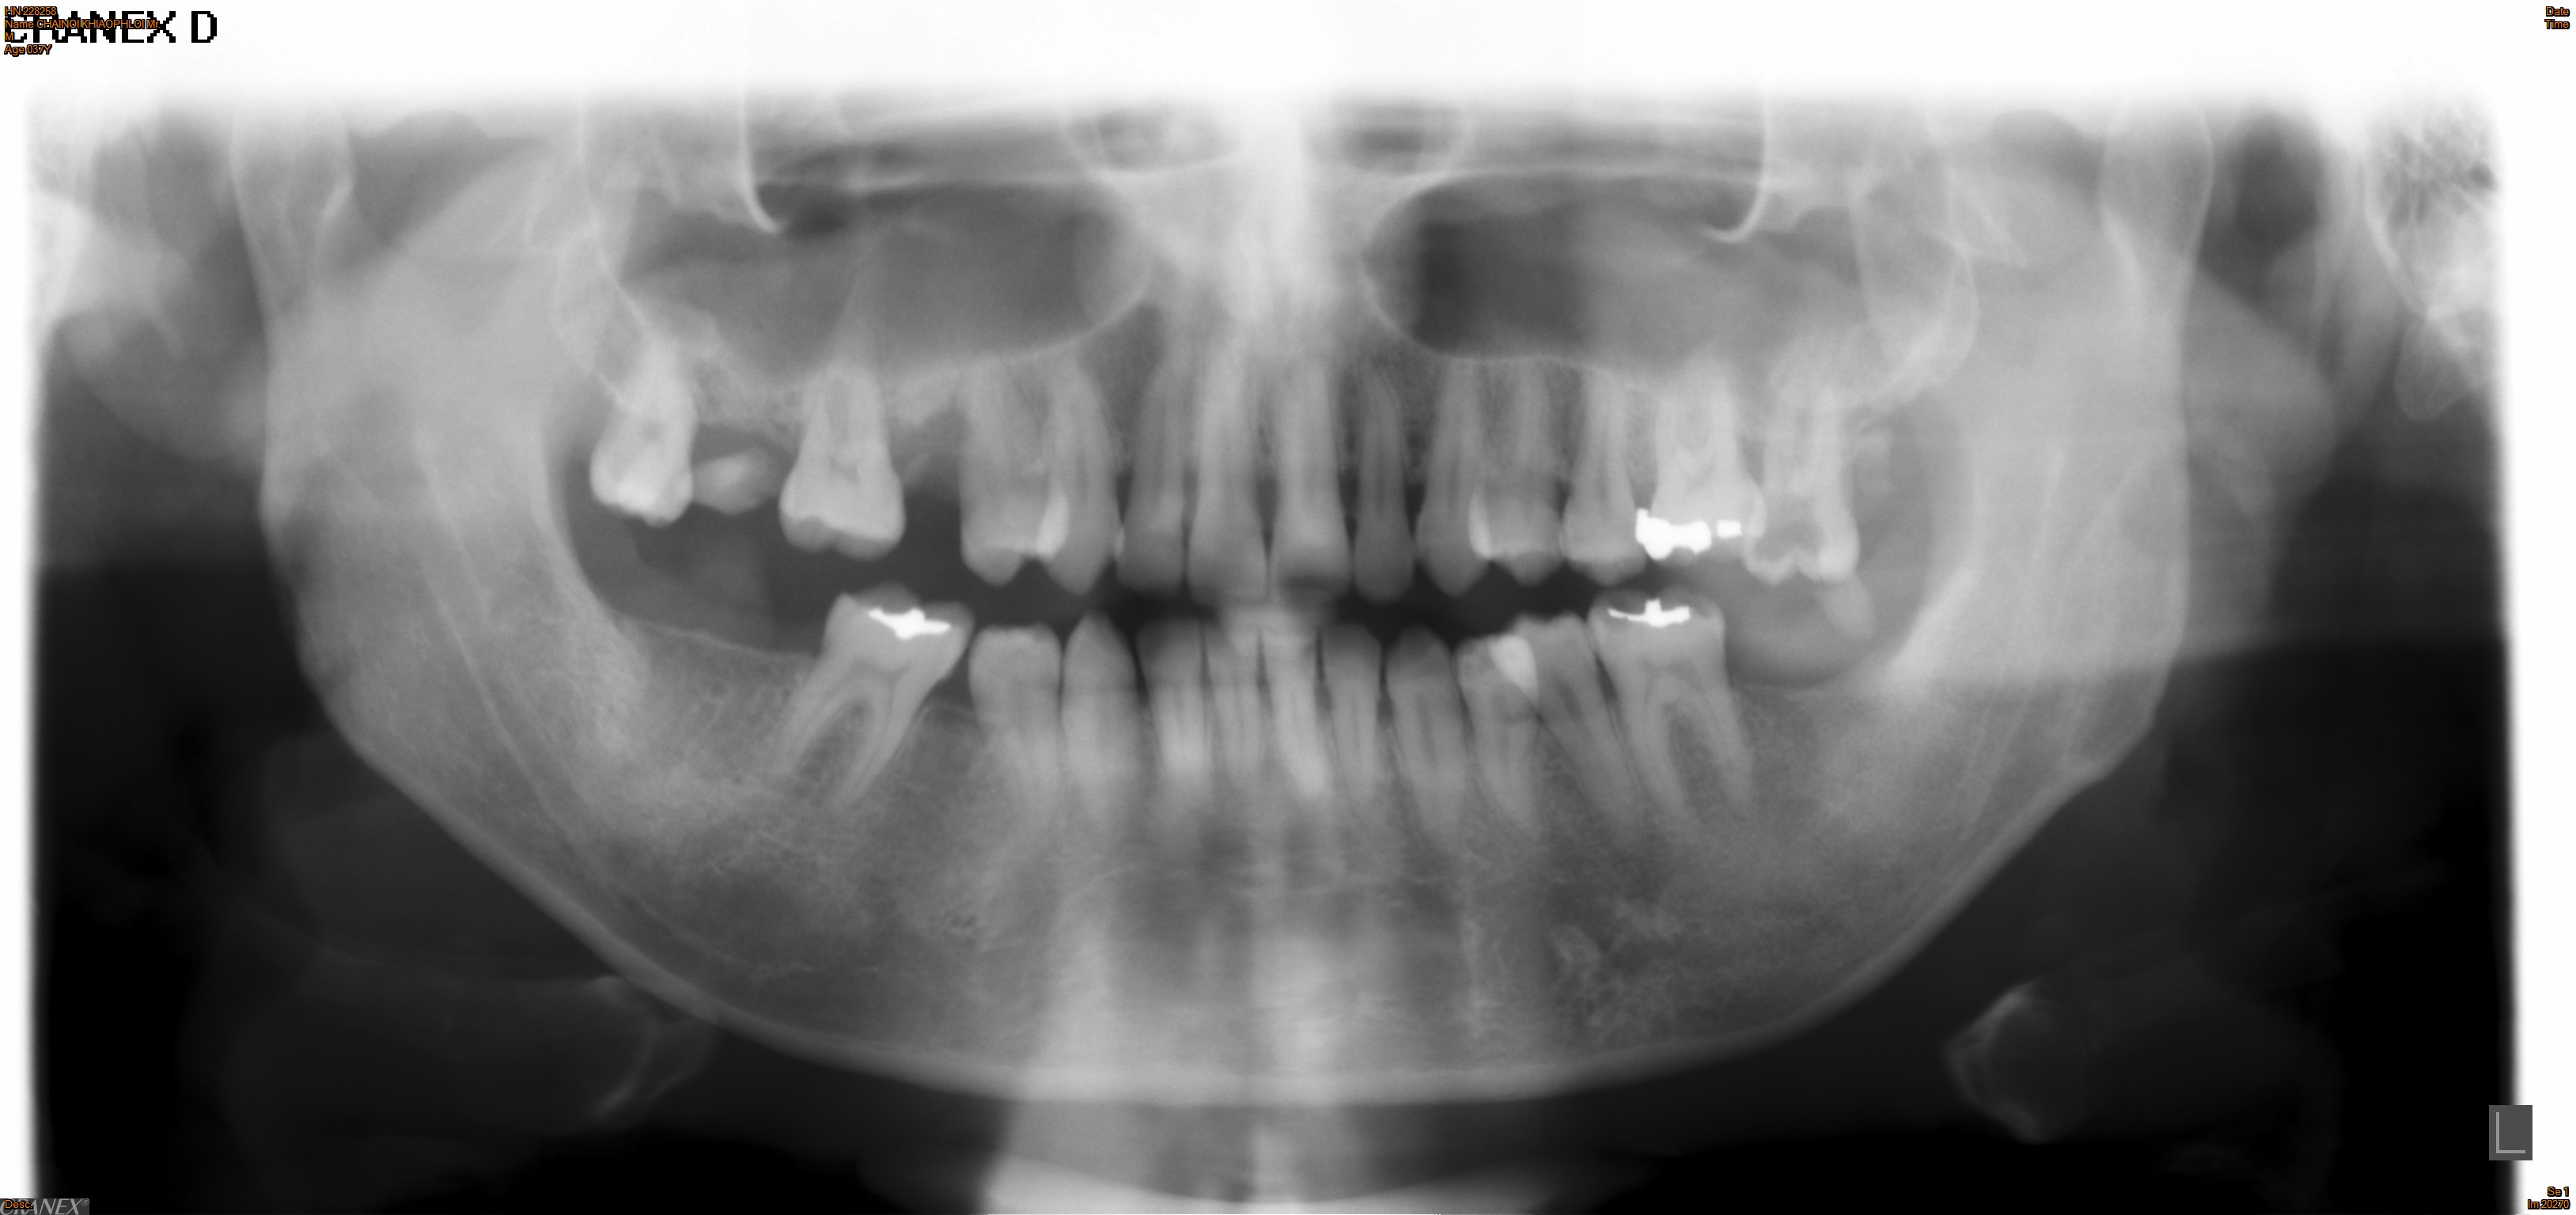periodontitis: (743, 575, 999, 821)
